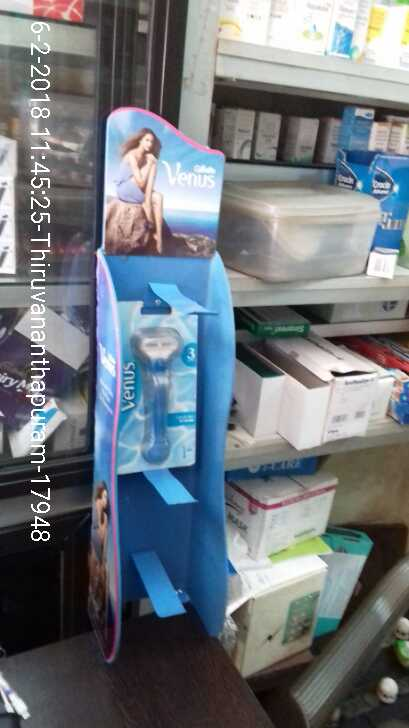venus: (110, 297, 195, 469)
